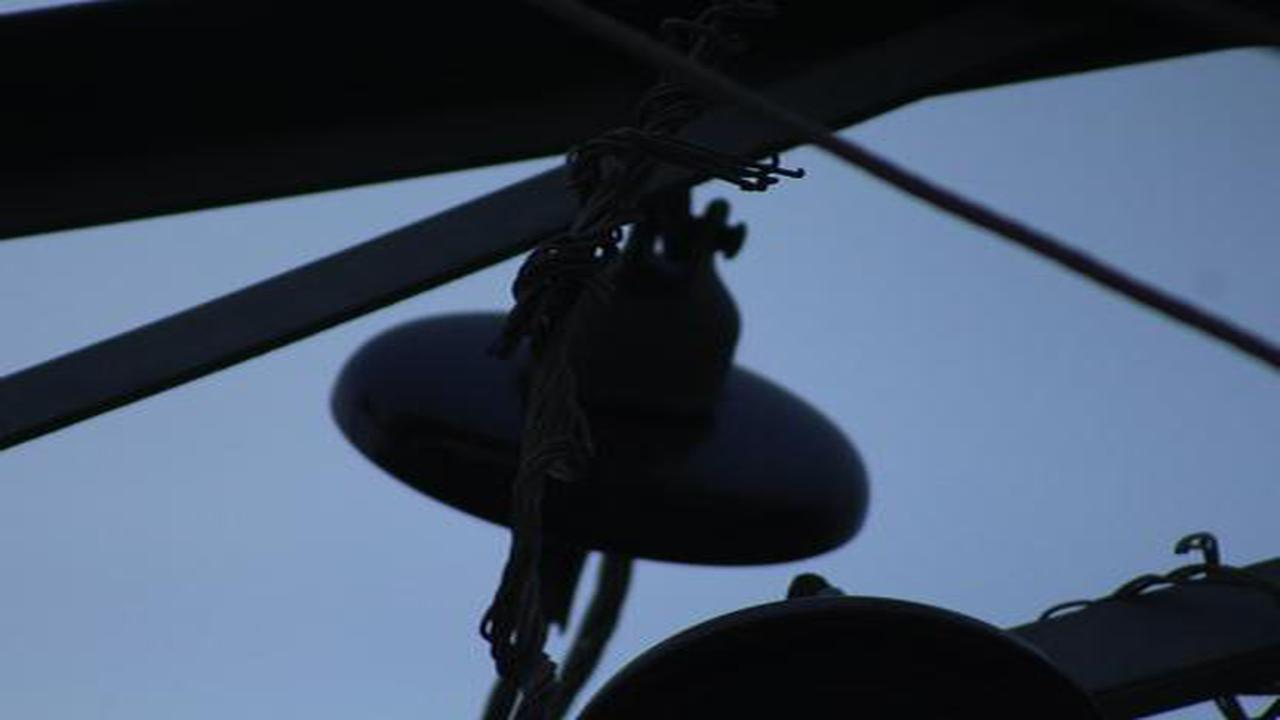insulator_disc: (323, 219, 880, 570)
